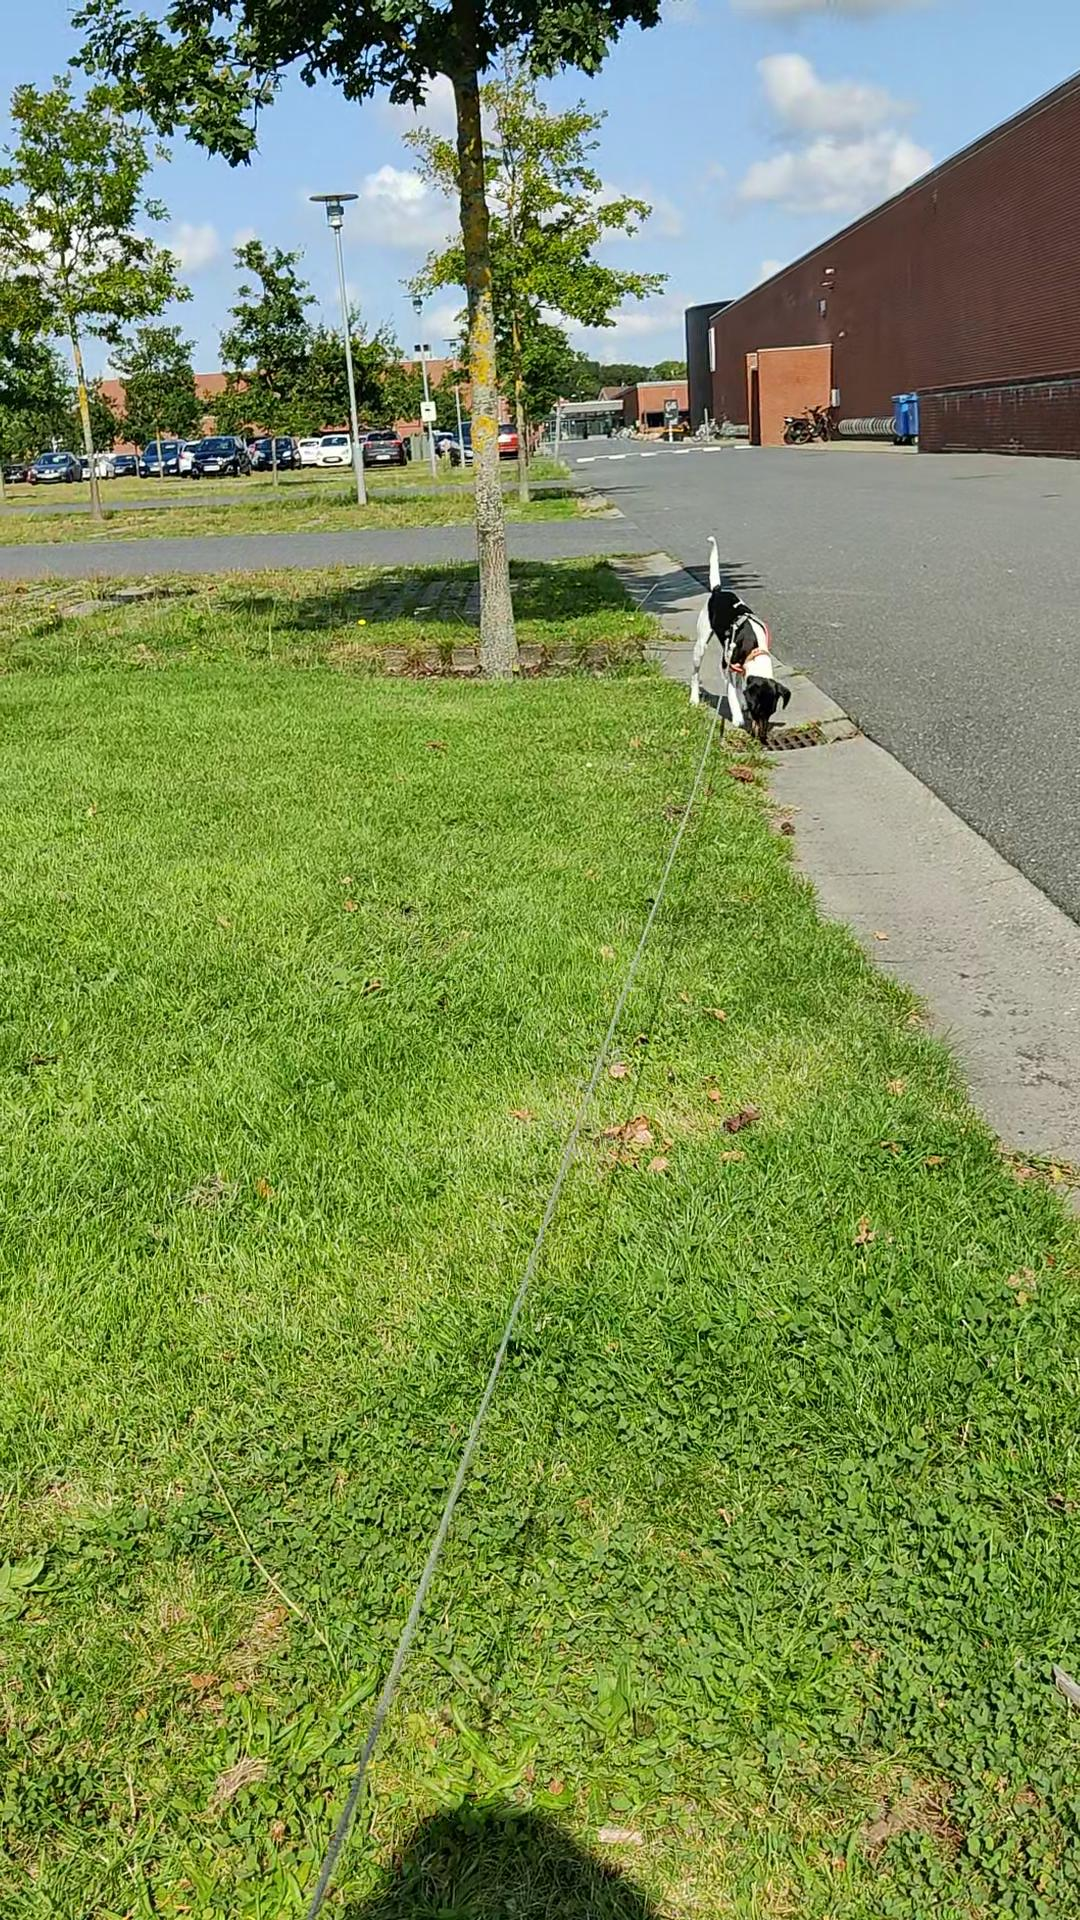Dog: (673, 522, 794, 744)
